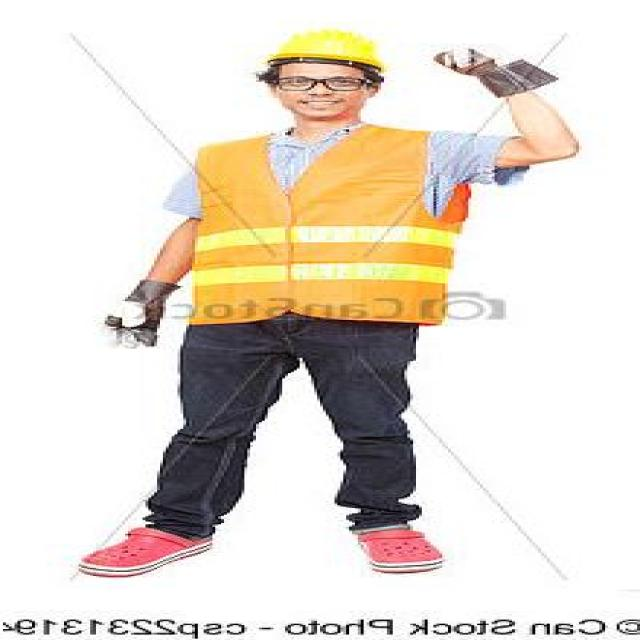Reflective-Jacket: (178, 128, 472, 328)
Safety-Helmet: (256, 23, 393, 72)
